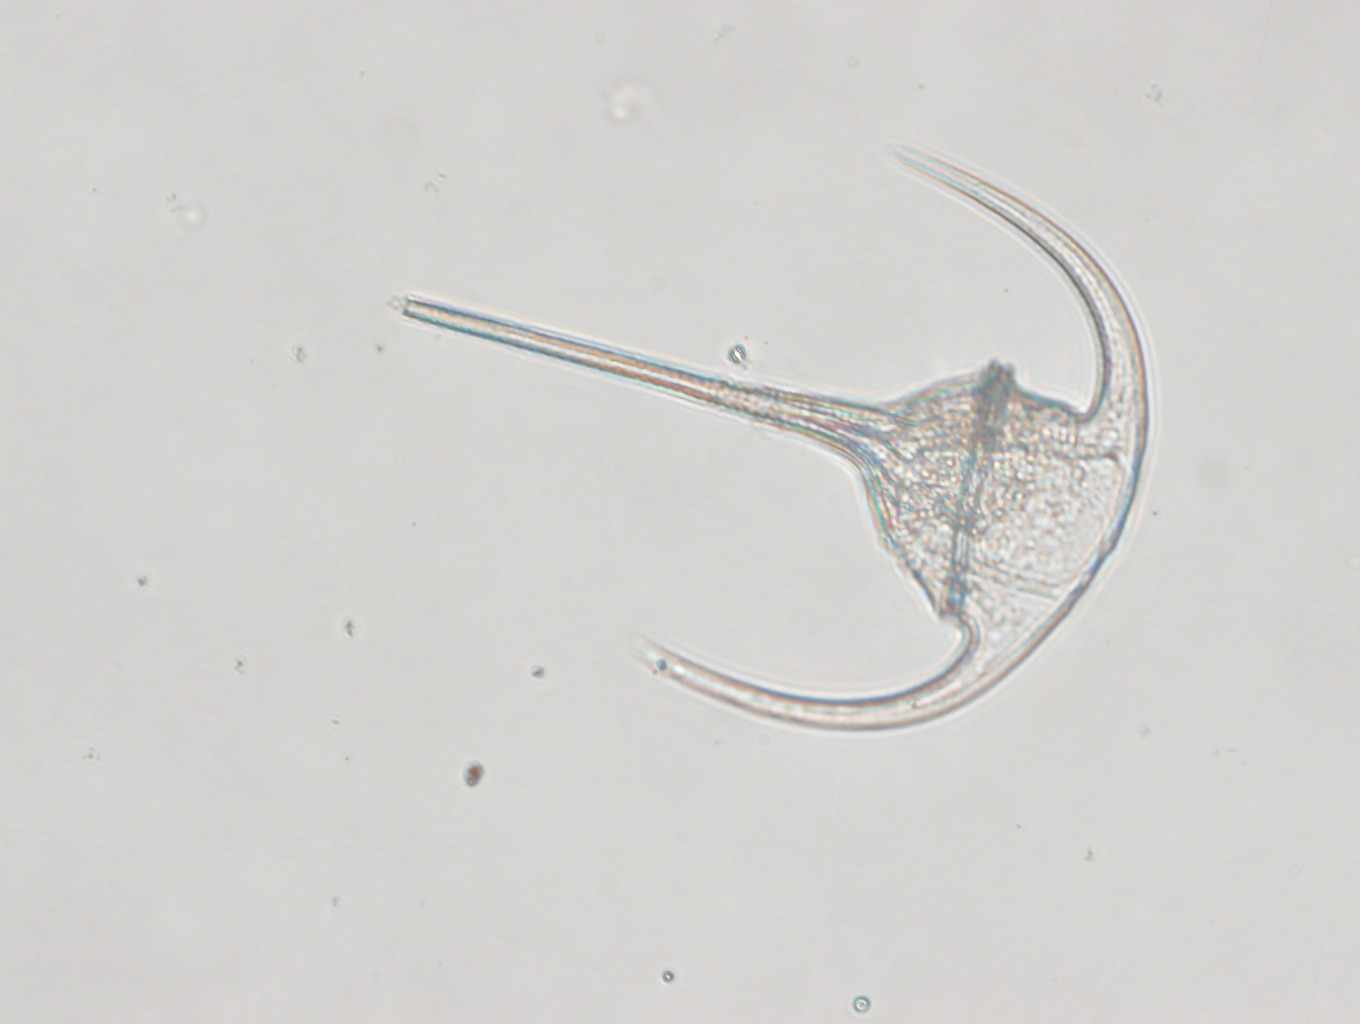ceratium tripos: (387, 142, 1154, 733)
